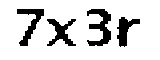3: (84, 6, 112, 51)
7: (11, 6, 45, 49)
r: (114, 14, 147, 50)
x: (45, 16, 82, 52)
